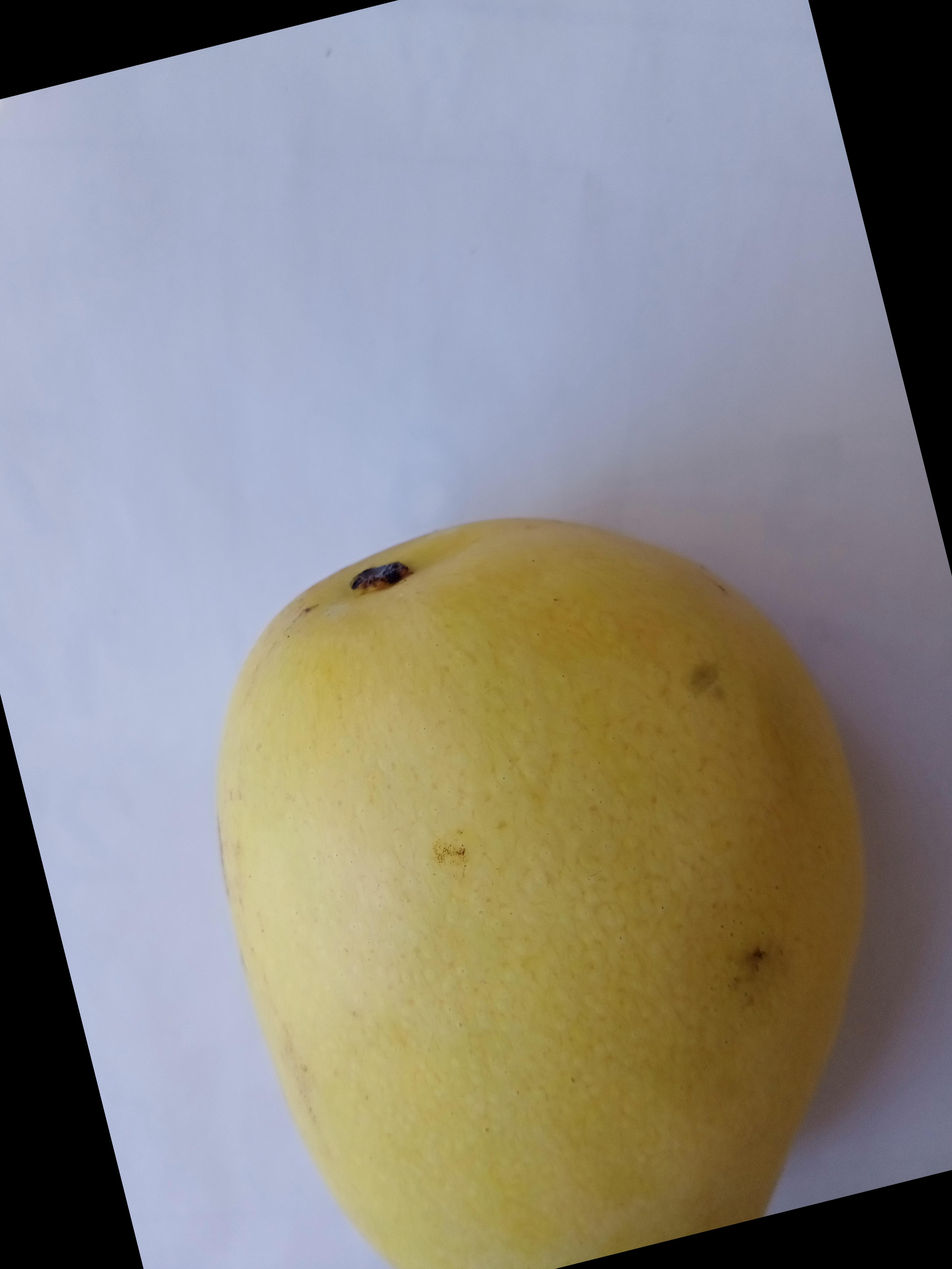Mango Ripe: (0, 542, 808, 1269)
